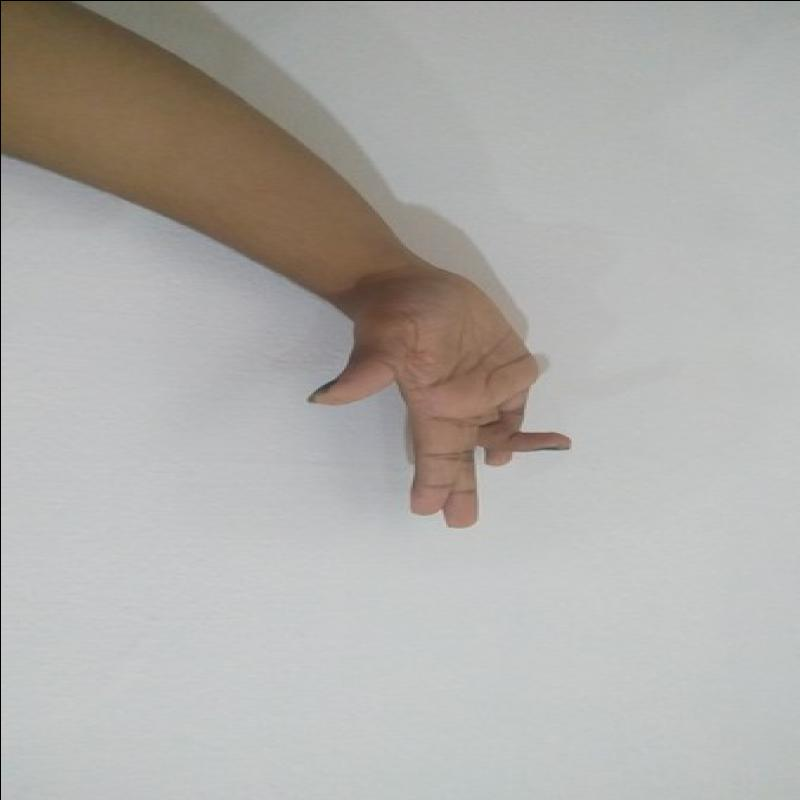Pathaaka: (291, 254, 596, 540)
